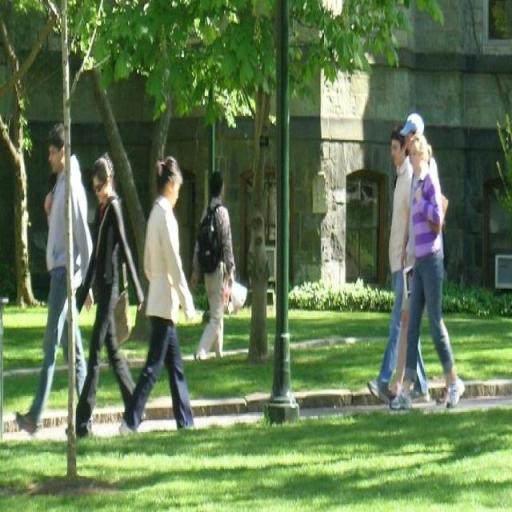person: (16, 124, 95, 431), (125, 157, 199, 431), (76, 157, 147, 430), (397, 133, 463, 412), (371, 127, 408, 401), (193, 167, 236, 360)
